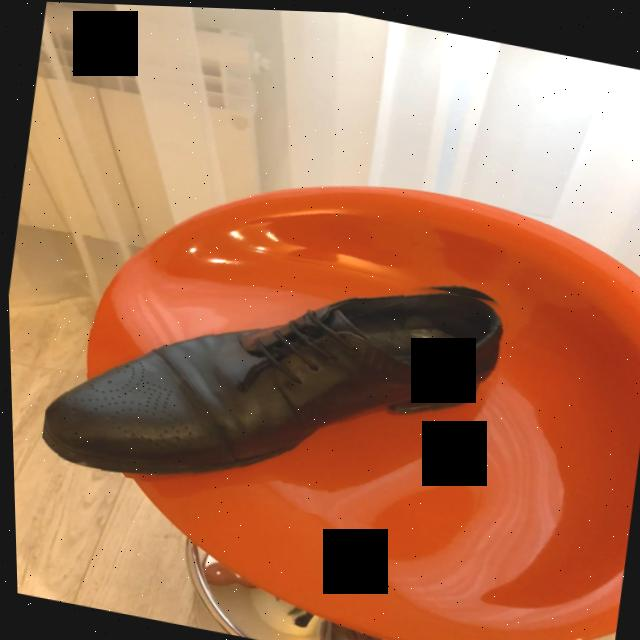shoe: (39, 290, 503, 477)
